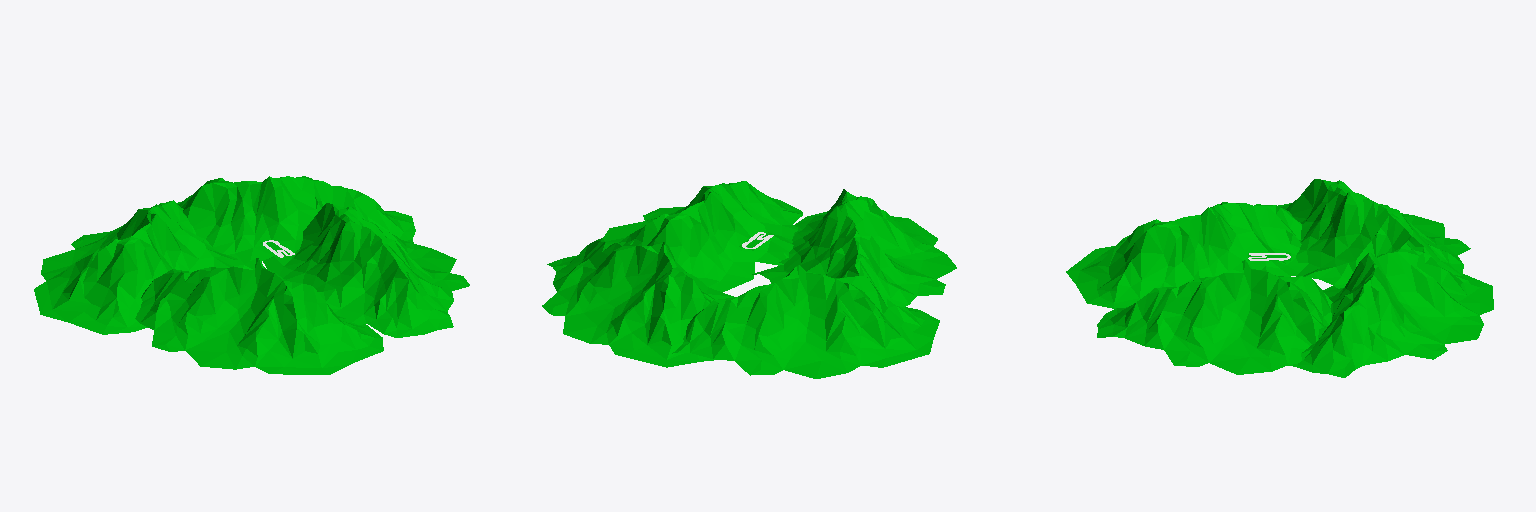
3 views of the same model, side by side, from view 1: azimuth 30°, elevation 25°; view 2: azimuth 150°, elevation 25°; view 3: azimuth 270°, elevation 25° (orthographic).
Visible parts, largest first — view 1: Plane_Plane.001; view 2: Plane_Plane.001; view 3: Plane_Plane.001.
Part boxes in pixels (bbox=[...]): Plane_Plane.001: bbox=[34, 176, 469, 374]; Plane_Plane.001: bbox=[542, 181, 956, 378]; Plane_Plane.001: bbox=[1066, 179, 1493, 377].
Bounding box in the file's own units: 4868 × 802 × 4787.
3 materials, 1 textured.